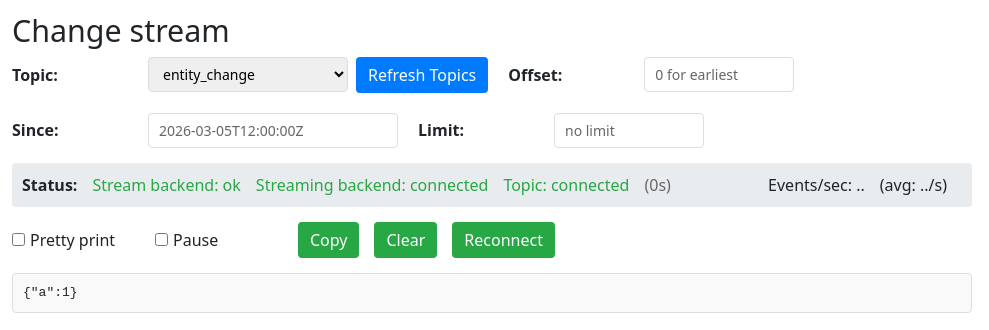
Test case: StreamView › clear empties the feed
expect the element with test id "stream-feed" shows "\"a\"": met, box [23,284,78,300]
Click the button with test id "stream-clear" at (406, 240), box [374,222,437,258]
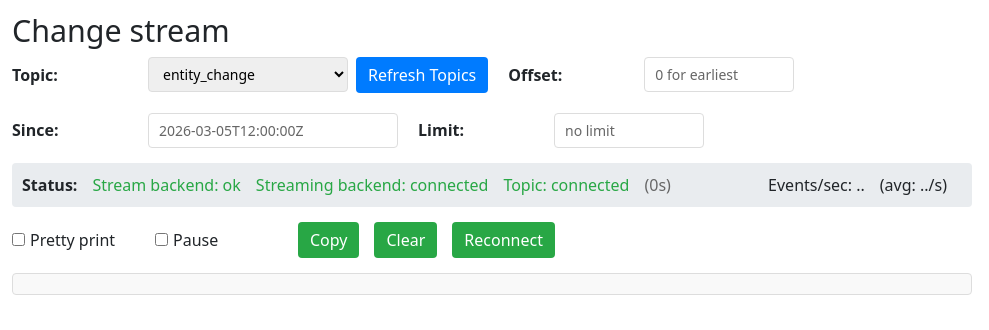
expect the text with test id "stream-feed" no longer shows "\"a\"": met
